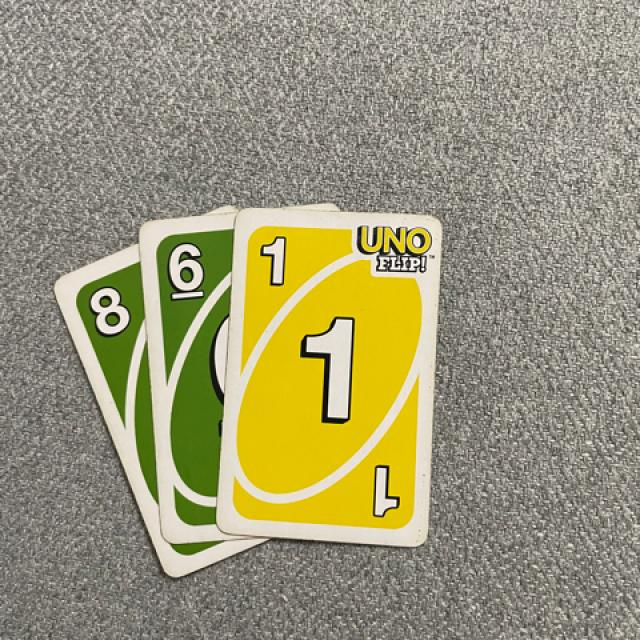lgreen-6: (152, 230, 218, 311)
lgreen-8: (84, 277, 137, 348)
lyellow-1: (244, 224, 307, 303)
